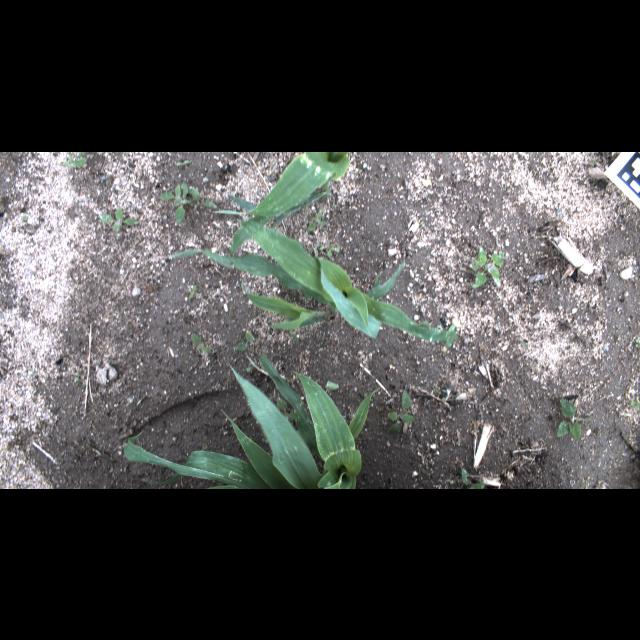crop: (170, 220, 454, 344), (123, 352, 380, 488), (224, 152, 350, 250)
weed: (158, 180, 202, 223), (470, 249, 506, 289), (386, 389, 416, 435), (556, 397, 582, 441), (99, 205, 140, 231), (202, 198, 244, 212), (190, 332, 212, 353), (461, 469, 485, 488), (60, 152, 88, 168), (306, 208, 324, 232), (314, 242, 342, 255), (236, 331, 254, 351), (184, 284, 198, 298), (71, 374, 85, 384), (629, 402, 639, 411), (634, 337, 640, 348)
